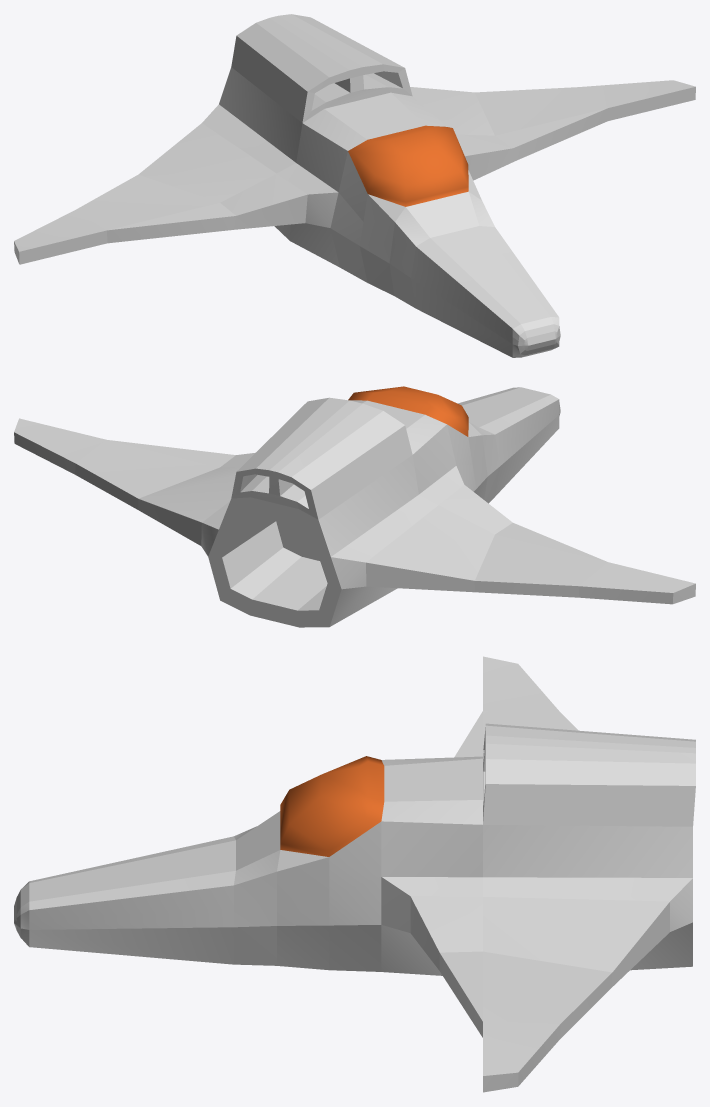
Rendered from spaceship.obj.
The picture shows the model from 3 angles, top to bottom: view 1: azimuth 30°, elevation 25°; view 2: azimuth 150°, elevation 25°; view 3: azimuth 270°, elevation 25°; orthographic projection. The views are drawn at different scales.
Visible parts, largest first — view 1: Spaceship4_Cube.001; view 2: Spaceship4_Cube.001; view 3: Spaceship4_Cube.001.
Part boxes in pixels (bbox=[...]): Spaceship4_Cube.001: bbox=[14, 14, 695, 357]; Spaceship4_Cube.001: bbox=[14, 386, 695, 627]; Spaceship4_Cube.001: bbox=[14, 656, 695, 1092].
Size of the model in its own units: 5.44 by 1.26 by 3.74.
1 material, 1 textured.
